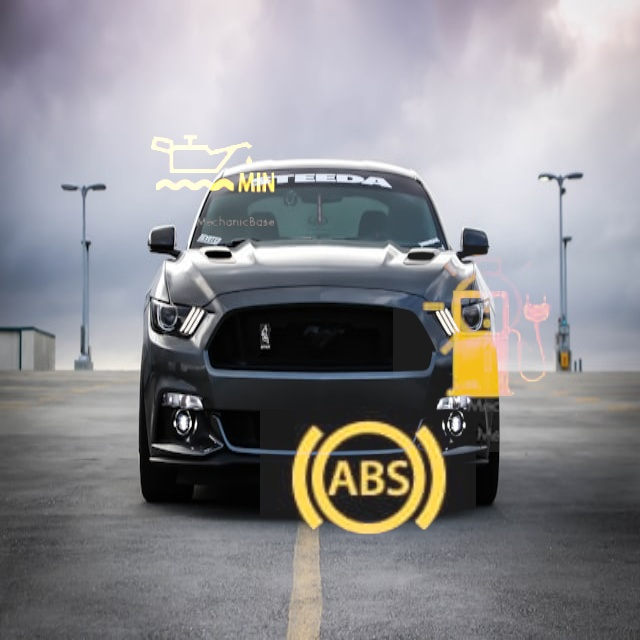symbol: (260, 372, 476, 588), (382, 207, 598, 423), (393, 239, 606, 452), (142, 95, 280, 233)
